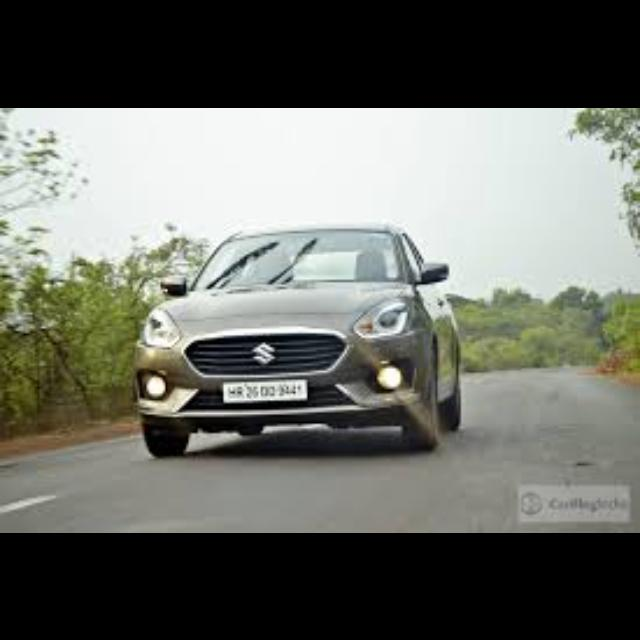number-plate: (221, 378, 307, 401)
vehicles: (126, 226, 466, 466)
